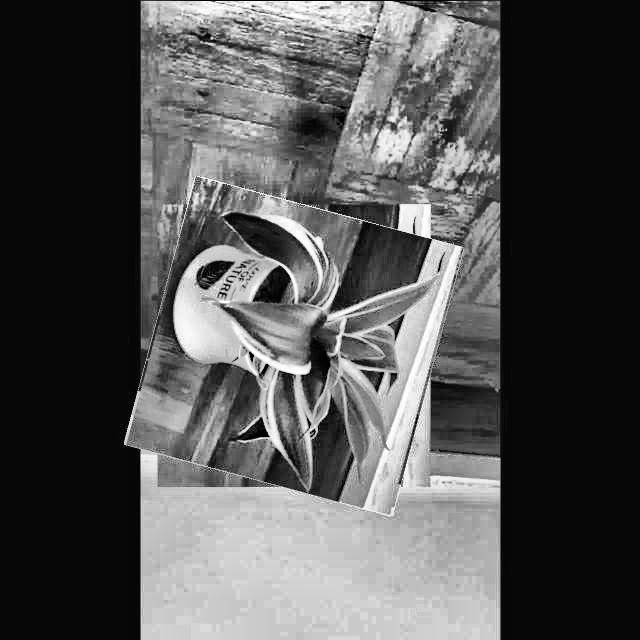plants: (139, 191, 448, 500)
